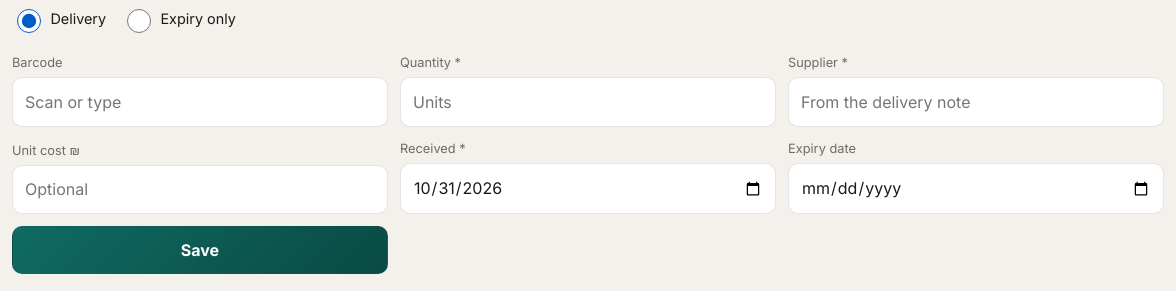
Test case: ReceivingCaptureForm — expiry-only mode › drops the quantity and supplier fields the delivery path requires
Check: the field labelled "Quantity *" is shown, box [400,77,776,127]
Click the radio button labelled "Expiry only" at (139, 21), box [127,9,151,33]
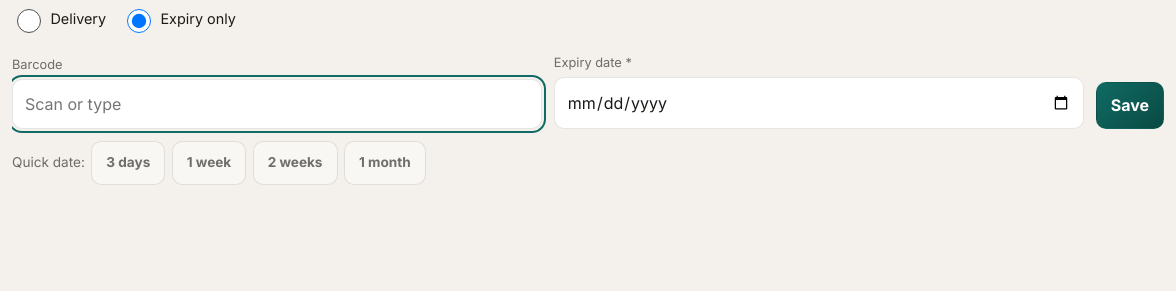
Check: the text labelled "Quantity" is gone
Check: the text labelled "Supplier" is gone
Check: the text labelled "Unit cost" is gone
